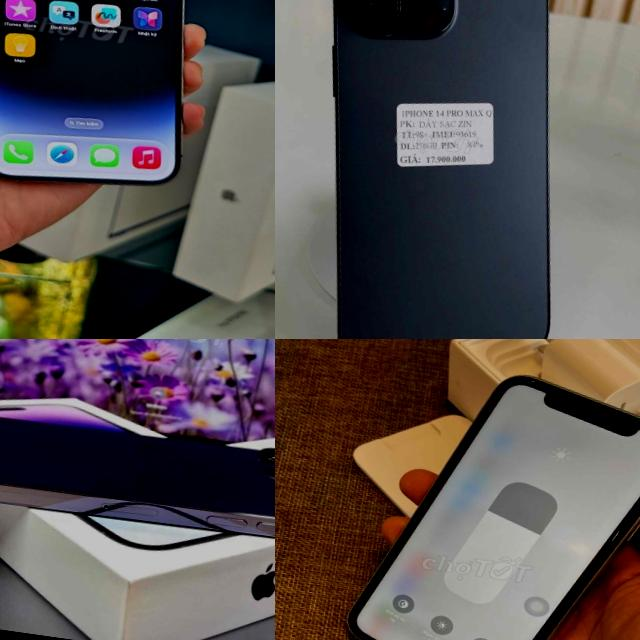gen_11: (348, 376, 640, 640)
gen_14: (275, 0, 614, 339), (0, 0, 229, 206), (0, 410, 275, 537)
